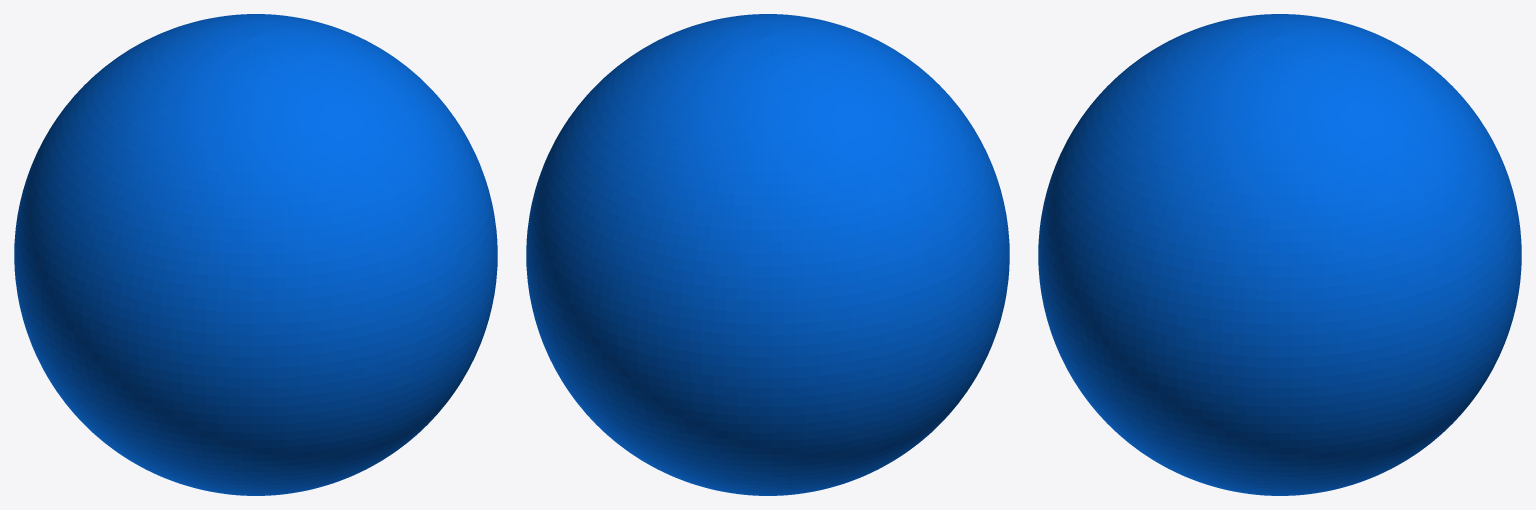
The model's file is ball.glb.
3 views of the same model, side by side, from view 1: azimuth 30°, elevation 25°; view 2: azimuth 150°, elevation 25°; view 3: azimuth 270°, elevation 25° (orthographic).
Visible parts, largest first — view 1: ball; view 2: ball; view 3: ball.
Boxes of the visible parts, left/top/right/bottom form: ball: left=14, top=14, right=497, bottom=495; ball: left=526, top=14, right=1009, bottom=495; ball: left=1038, top=14, right=1521, bottom=495.
Bounding box in the file's own units: 0.5 × 0.5 × 0.5.
